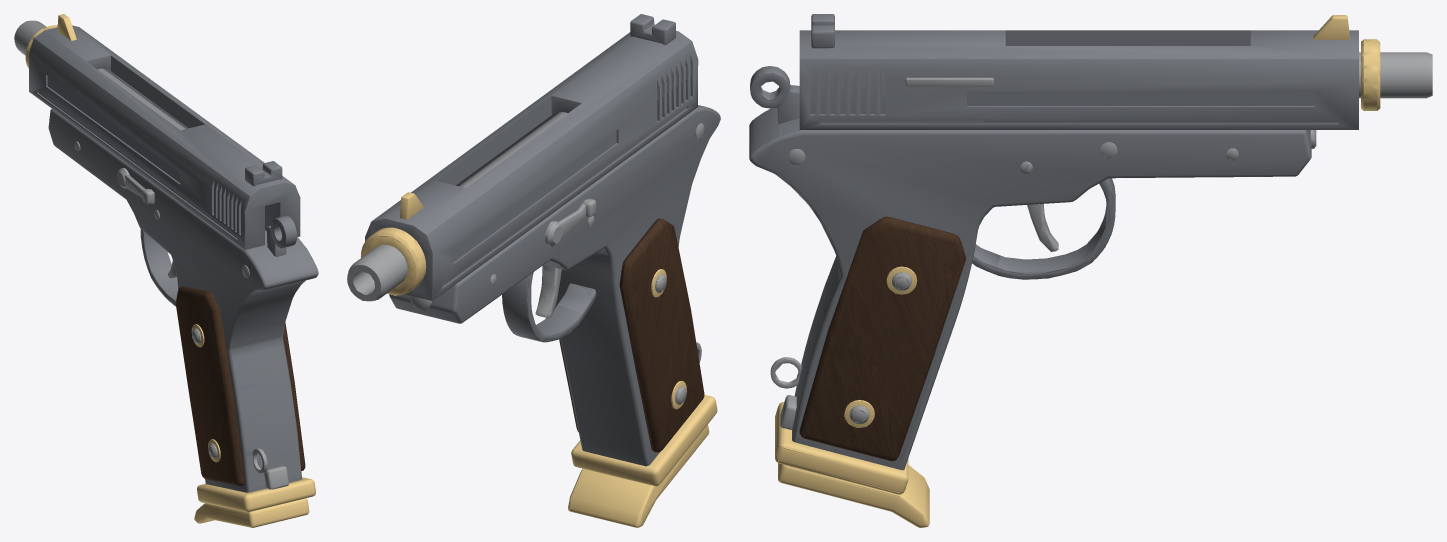
File: mandi.glb
3 renders of one model, left to right at view 1: azimuth 30°, elevation 25°; view 2: azimuth 150°, elevation 25°; view 3: azimuth 270°, elevation 25°, orthographic. The views are drawn at different scales.
Visible parts, largest first — view 1: body, slide, far, mag; view 2: body, slide, far, mag; view 3: body, slide, far, mag.
Part boxes in pixels (box(x1,y1,x2,y2)): body: box(14, 20, 318, 511); slide: box(29, 14, 300, 249); far: box(14, 18, 318, 527); mag: box(194, 498, 309, 527); body: box(347, 105, 720, 486); slide: box(365, 14, 697, 300); far: box(347, 18, 720, 527); mag: box(568, 424, 709, 527); body: box(749, 39, 1432, 494); slide: box(799, 14, 1358, 129); far: box(749, 15, 1432, 527); mag: box(778, 463, 929, 527).
Bounding box in the file's own units: 0.0393 × 0.1854 × 0.2321.
5 materials, 1 textured.
